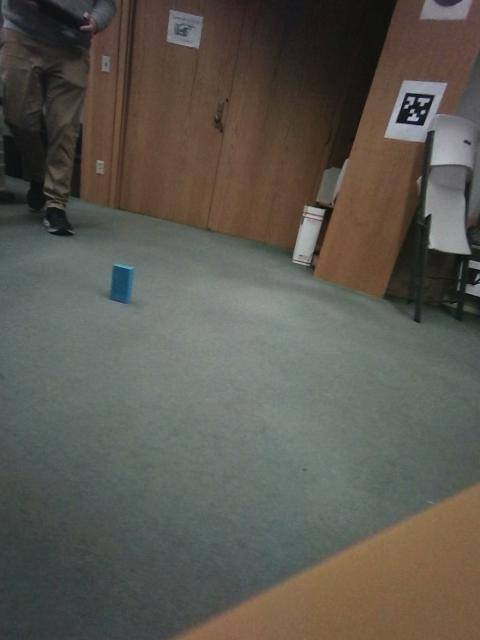block: (391, 331, 439, 367)
